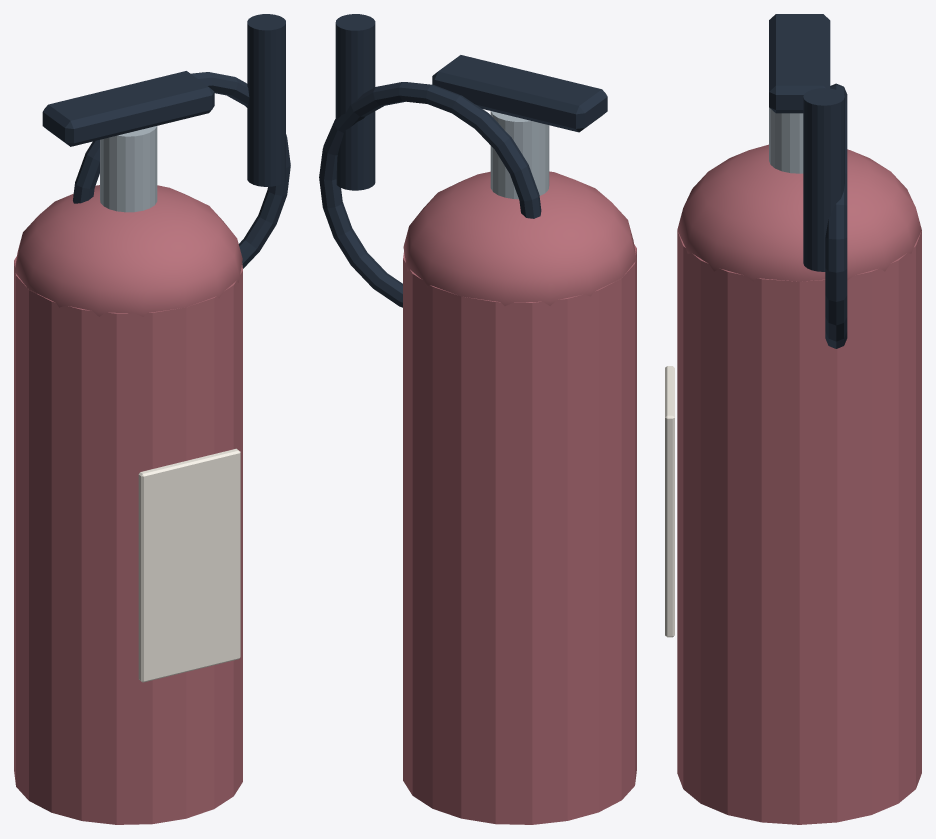
The model's file is logistics_06.glb.
3 views of the same model, side by side, from view 1: azimuth 30°, elevation 25°; view 2: azimuth 150°, elevation 25°; view 3: azimuth 270°, elevation 25° (orthographic). The views are drawn at different scales.
Visible parts, largest first — view 1: Extinguisher, Shoulder, Label, Lever, Nozzle, Valve, Hose; view 2: Extinguisher, Shoulder, Hose, Lever, Nozzle, Valve; view 3: Extinguisher, Shoulder, Nozzle, Lever, Hose, Label, Valve.
Part boxes in pixels (x1,y1,x2,y2): Extinguisher: (14, 256, 242, 824); Shoulder: (14, 185, 242, 316); Label: (138, 448, 240, 682); Lever: (42, 71, 214, 146); Nozzle: (247, 14, 285, 186); Valve: (100, 126, 157, 212); Hose: (73, 72, 290, 268); Extinguisher: (403, 244, 636, 824); Shoulder: (403, 171, 636, 305); Hose: (319, 82, 541, 307); Lever: (432, 55, 607, 132); Nozzle: (335, 14, 375, 190); Valve: (490, 111, 549, 199); Extinguisher: (677, 230, 921, 824); Shoulder: (677, 144, 921, 281); Nozzle: (803, 88, 844, 271); Lever: (769, 14, 830, 113); Hose: (825, 83, 847, 348); Label: (665, 366, 674, 637); Valve: (769, 107, 803, 173).
Bounding box in the file's own units: 0.279 × 0.68 × 0.21.
